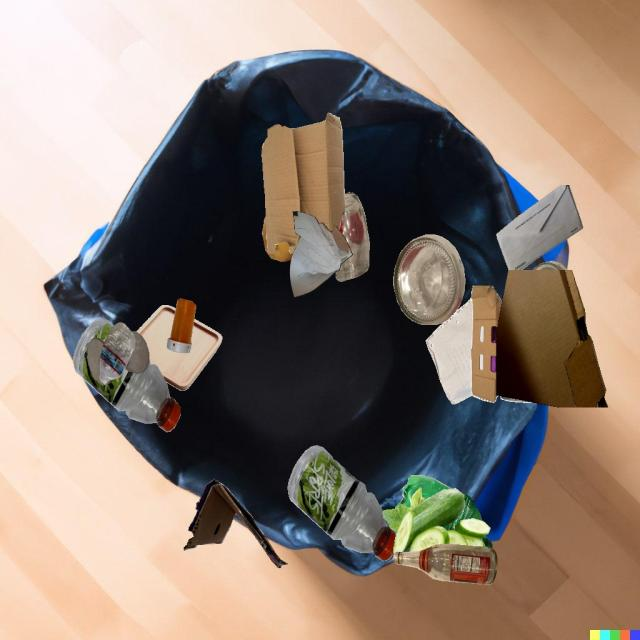biowaste: (383, 487, 490, 554), (262, 216, 293, 262)
cardboard: (496, 270, 608, 407), (261, 112, 345, 254), (184, 478, 288, 568), (471, 286, 502, 403), (500, 396, 532, 403)
combustible waste: (136, 305, 222, 390)
glass: (393, 235, 465, 325), (393, 544, 497, 585), (335, 192, 370, 282), (100, 338, 135, 382), (87, 338, 105, 385), (130, 331, 149, 368), (533, 261, 568, 270)
paper: (496, 185, 583, 270), (290, 211, 353, 297), (426, 297, 473, 404)
plastic: (288, 445, 396, 561), (73, 318, 181, 432), (99, 322, 135, 385), (167, 298, 196, 353), (395, 475, 433, 509)
